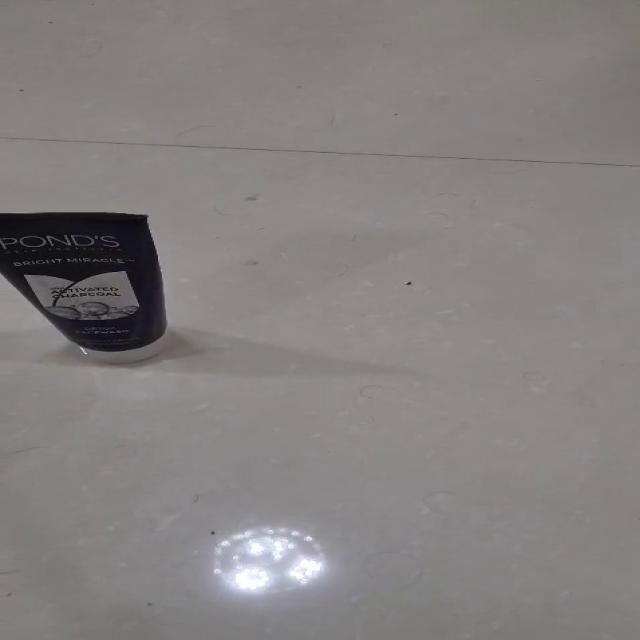plastic: (0, 210, 169, 364)
